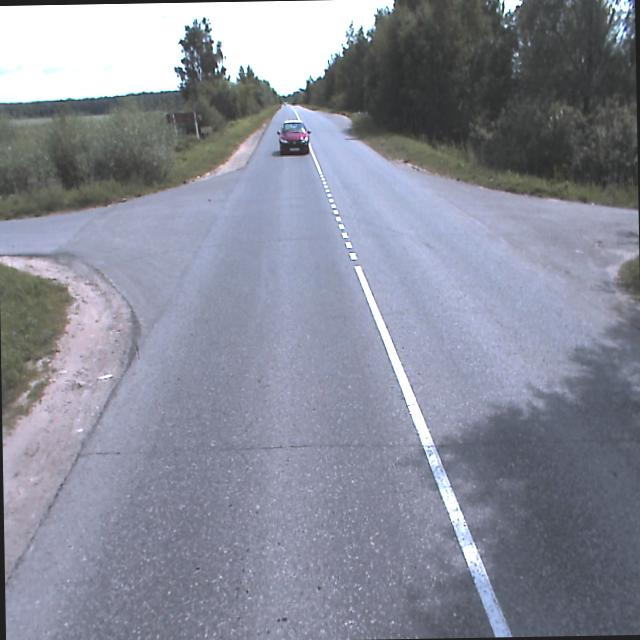road: (0, 105, 640, 640)
